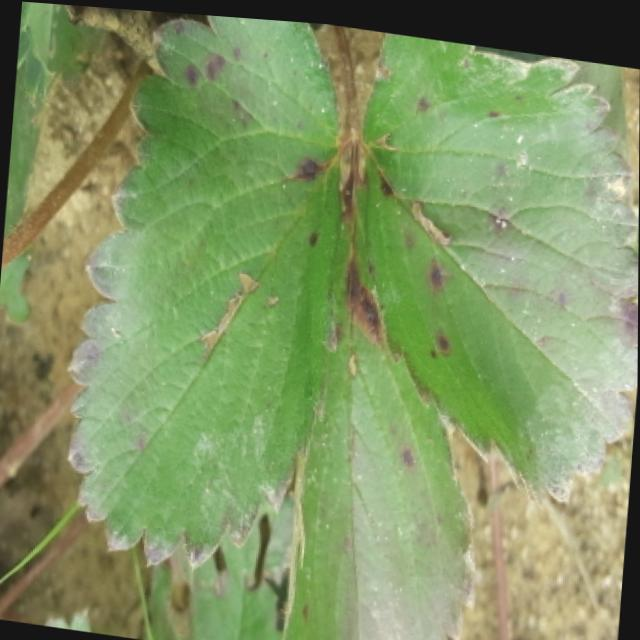Leaf Spot: (66, 12, 348, 567), (352, 26, 639, 501), (282, 214, 481, 640)
